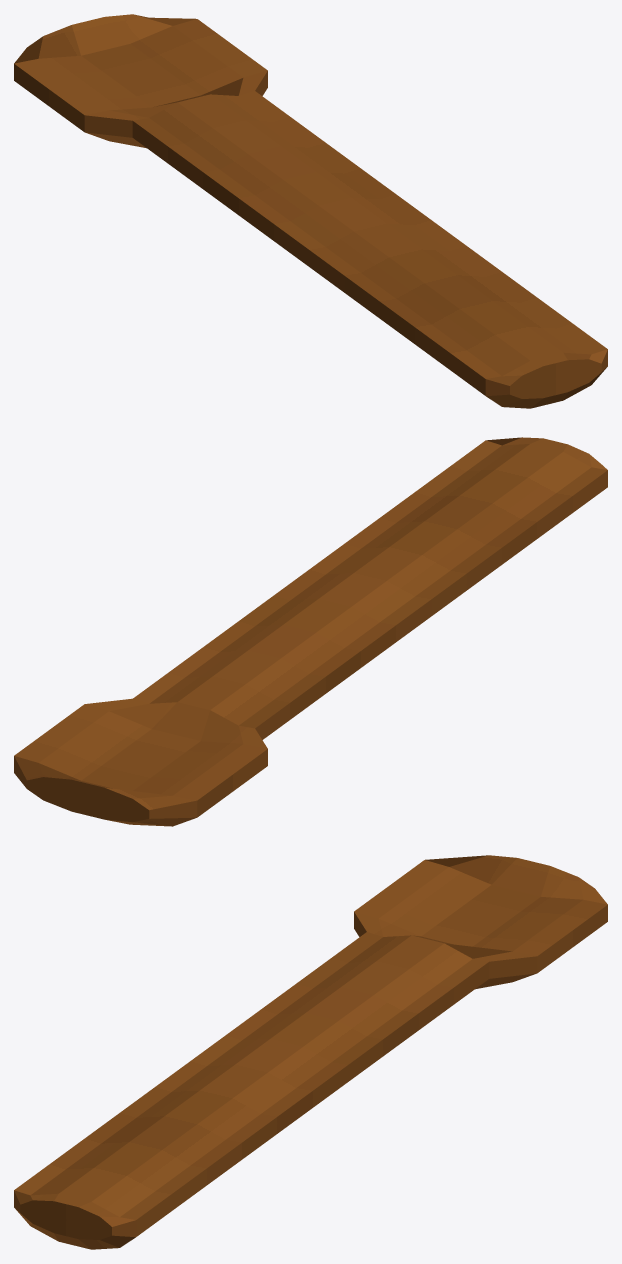
The model's file is chochla1.fbx.
The picture shows the model from 3 angles, top to bottom: view 1: azimuth 30°, elevation 25°; view 2: azimuth 150°, elevation 25°; view 3: azimuth 330°, elevation 25°; orthographic projection.
Visible parts, largest first — view 1: cylinder; view 2: cylinder; view 3: cylinder.
Boxes of the visible parts, x1,y1,x2,y2 form: cylinder: [14, 14, 607, 408]; cylinder: [14, 437, 607, 826]; cylinder: [14, 855, 607, 1249].
Bounding box in the file's own units: 18.75 × 4.69 × 82.81.
1 material, 1 textured.
